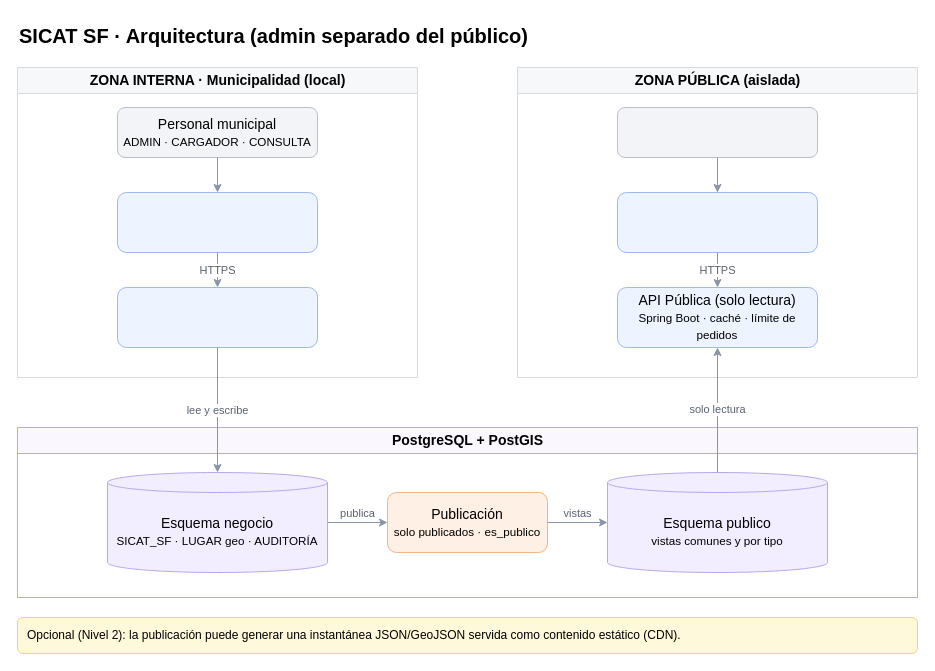
The diagram is 935 pixels wide and 671 high, and some of its shapes have lost their labels. Each missing label, with the centre of its shape:
"Angular Admin ABM · filtros · vista de mapa" goes at (217,222).
"Angular Público listado · ficha · mapa (Leaflet)" goes at (717,222).
"API Admin Spring Boot · JWT + roles · auditoría" goes at (217,317).
"Ciudadanos / turistas muchos usuarios concurrentes" goes at (717,132).
